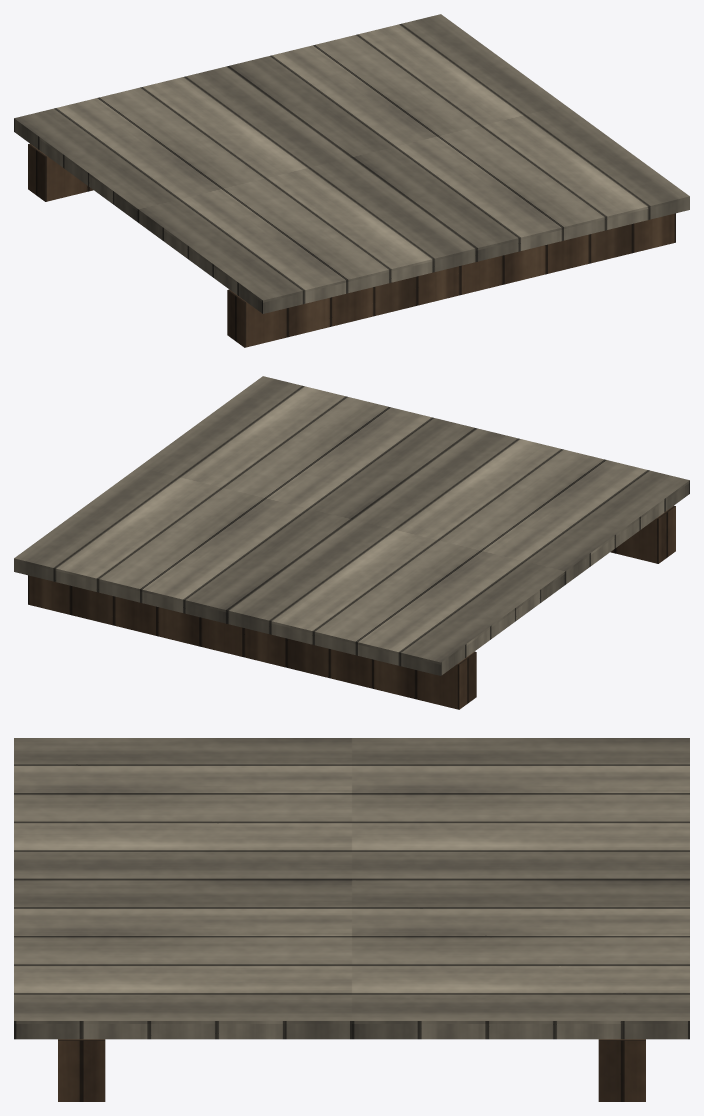
Rendered from Boardwalk_Deck_1_LOD2.gltf.
3 renders of one model, top to bottom at view 1: azimuth 30°, elevation 25°; view 2: azimuth 150°, elevation 25°; view 3: azimuth 270°, elevation 25°, orthographic. The views are drawn at different scales.
Parts seen in each view (by area): view 1: Boardwalk_Deck_1_LOD2; view 2: Boardwalk_Deck_1_LOD2; view 3: Boardwalk_Deck_1_LOD2.
Boxes of the visible parts, <box> form: Boardwalk_Deck_1_LOD2: <box>14,14,689,347</box>; Boardwalk_Deck_1_LOD2: <box>14,376,689,709</box>; Boardwalk_Deck_1_LOD2: <box>14,738,689,1101</box>.
Bounding box in the file's own units: 2 × 0.26 × 2.
Materials: 2 (2 with a texture image).
